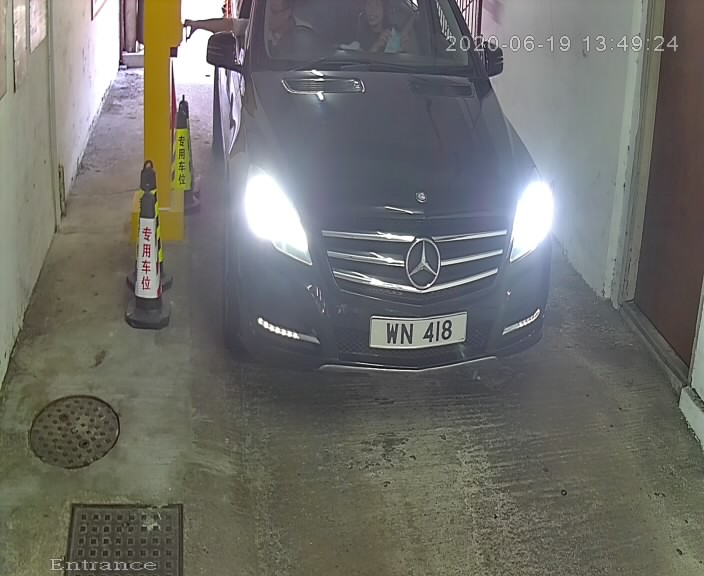privatecar: (197, 3, 561, 395)
